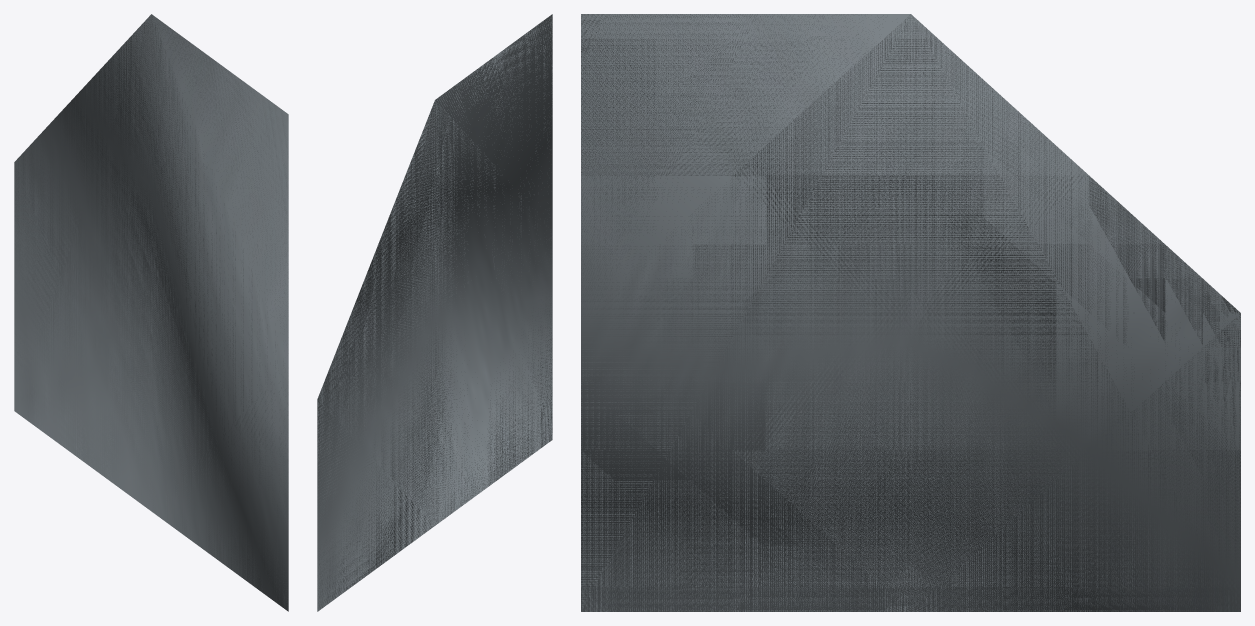
3 renders of one model, left to right at view 1: azimuth 30°, elevation 25°; view 2: azimuth 150°, elevation 25°; view 3: azimuth 270°, elevation 25°, orthographic. The views are drawn at different scales.
Size of the model in its own units: 0 by 0.48 by 0.48.
1 material, 1 textured.
